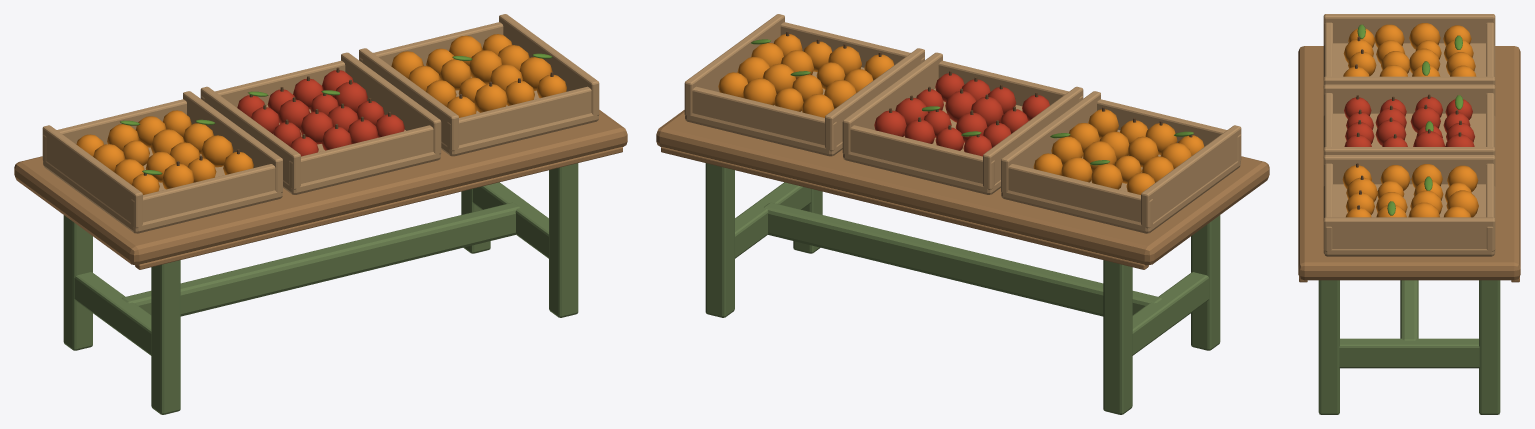
File: rivora_citrus.glb
The picture shows the model from 3 angles, left to right: view 1: azimuth 30°, elevation 25°; view 2: azimuth 150°, elevation 25°; view 3: azimuth 270°, elevation 25°; orthographic projection. The views are drawn at different scales.
Parts seen in each view (by area): view 1: rivora_citrus; view 2: rivora_citrus; view 3: rivora_citrus.
Part boxes in pixels (left/top/right/bottom): rivora_citrus: left=14, top=14, right=627, bottom=414; rivora_citrus: left=656, top=14, right=1269, bottom=414; rivora_citrus: left=1298, top=14, right=1520, bottom=414.
Bounding box in the file's own units: 1.72 × 0.7676 × 0.73.
